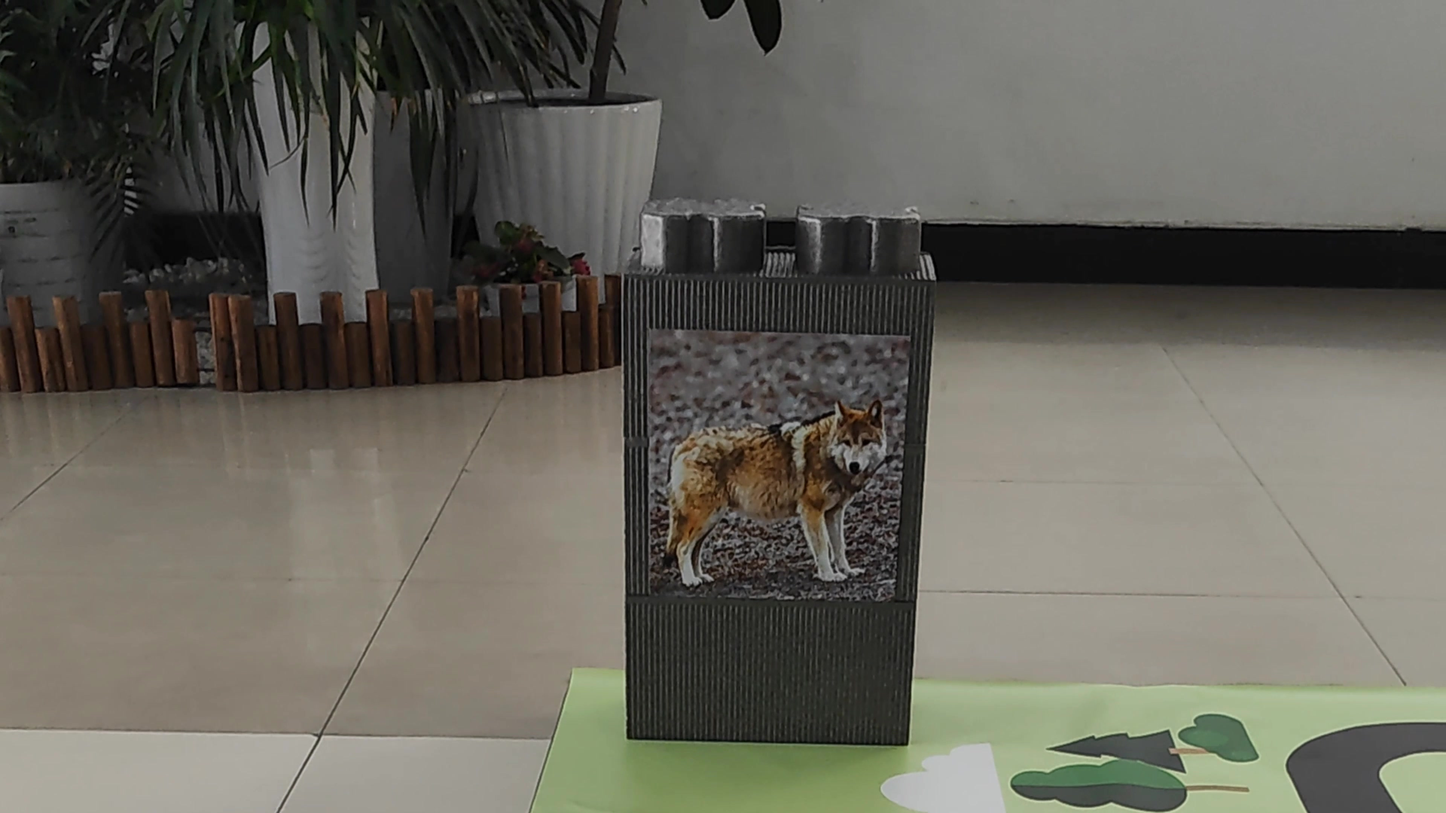wolf: (651, 375, 906, 597)
